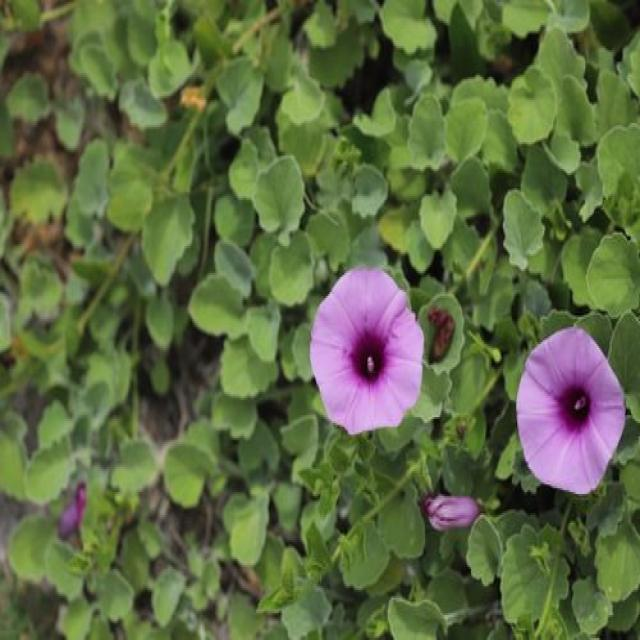ipomoea: (306, 262, 427, 440), (512, 321, 628, 500)
